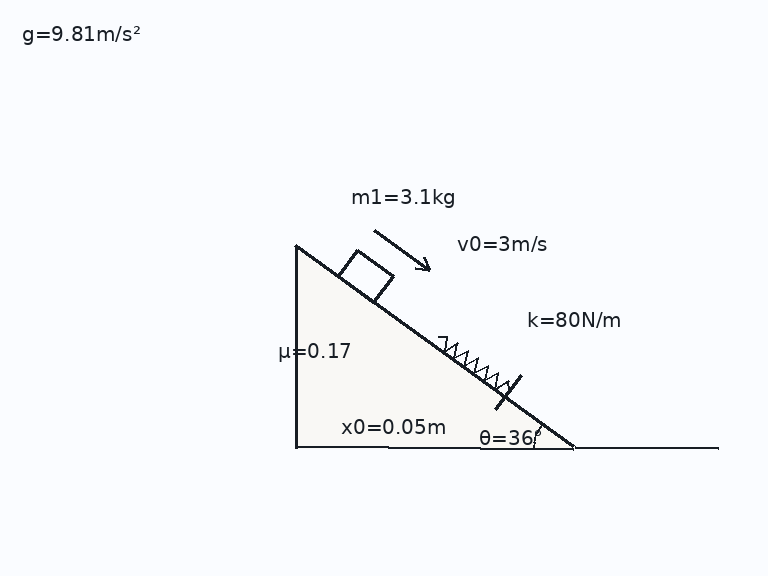block: (336, 248, 394, 304)
ramp: (294, 244, 576, 450)
spring: (435, 334, 512, 392)
